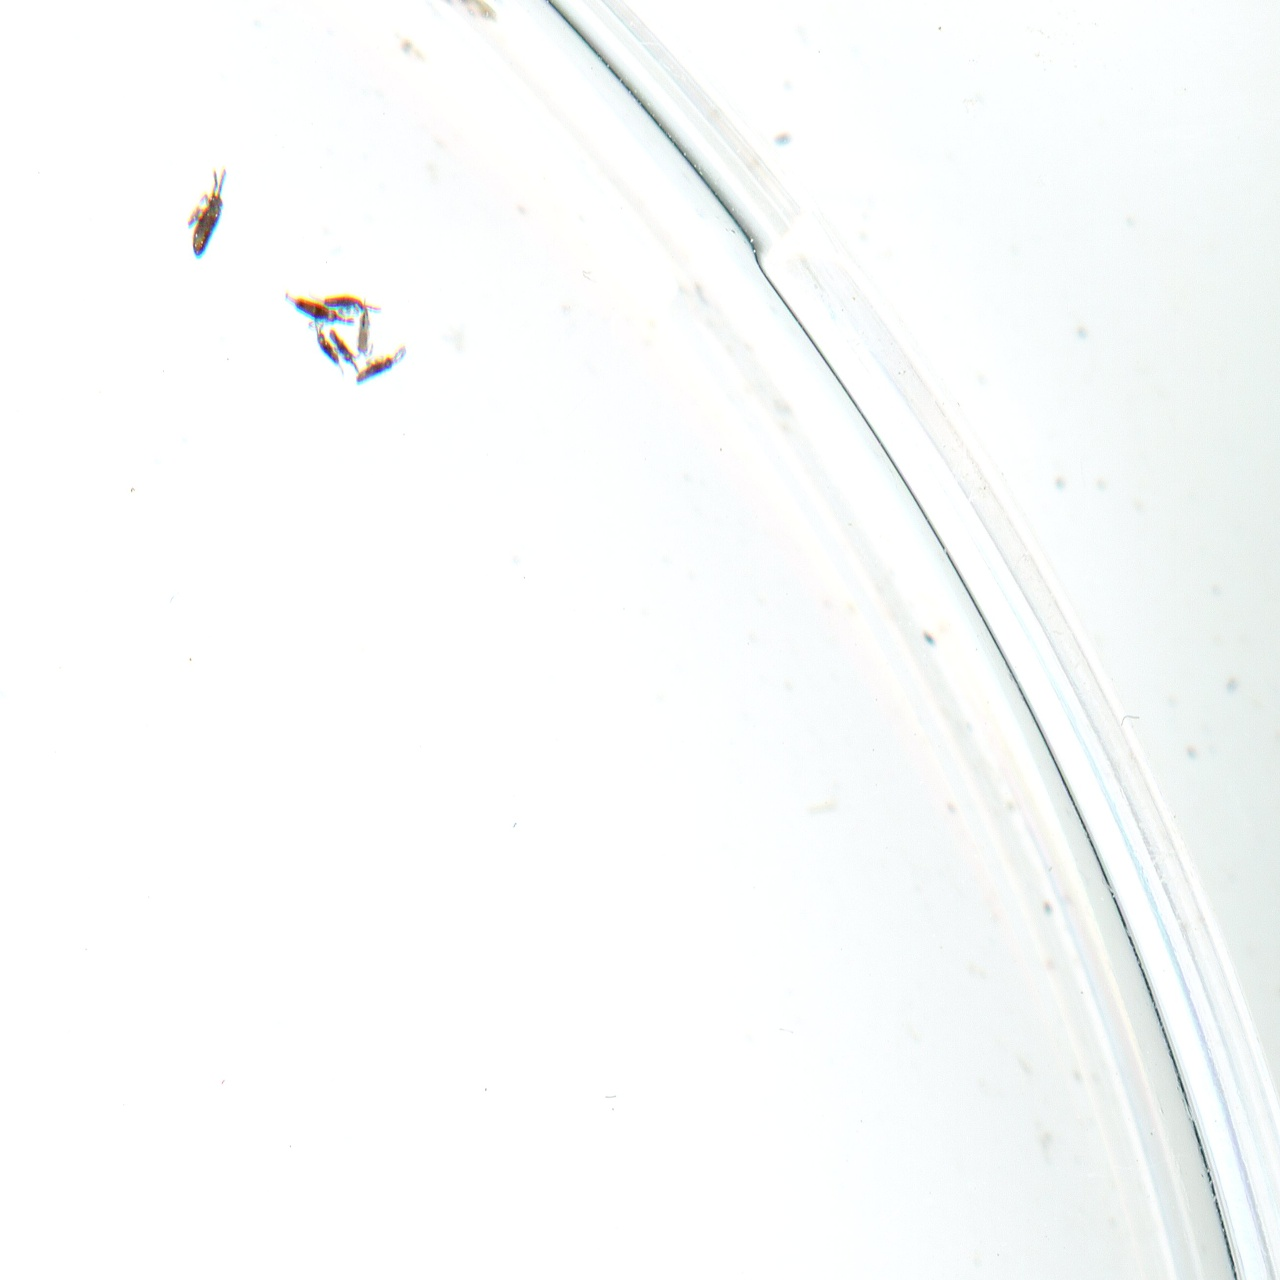arthropod: (170, 159, 245, 274), (273, 287, 365, 345), (348, 340, 415, 388), (308, 314, 347, 382), (327, 321, 369, 380), (350, 297, 375, 361), (322, 293, 383, 318)
